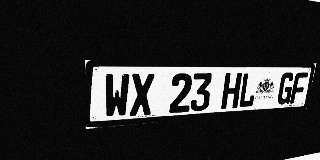2: (169, 73, 193, 113)
3: (190, 73, 212, 112)
F: (290, 72, 308, 104)
G: (276, 72, 295, 105)
H: (221, 73, 242, 109)
L: (238, 73, 258, 108)
W: (104, 73, 130, 118)
X: (129, 73, 155, 116)
